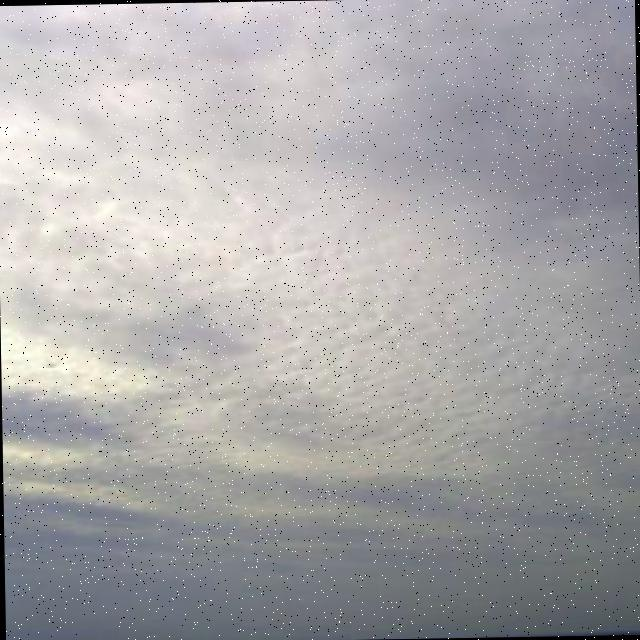Ac: (1, 89, 640, 552)
